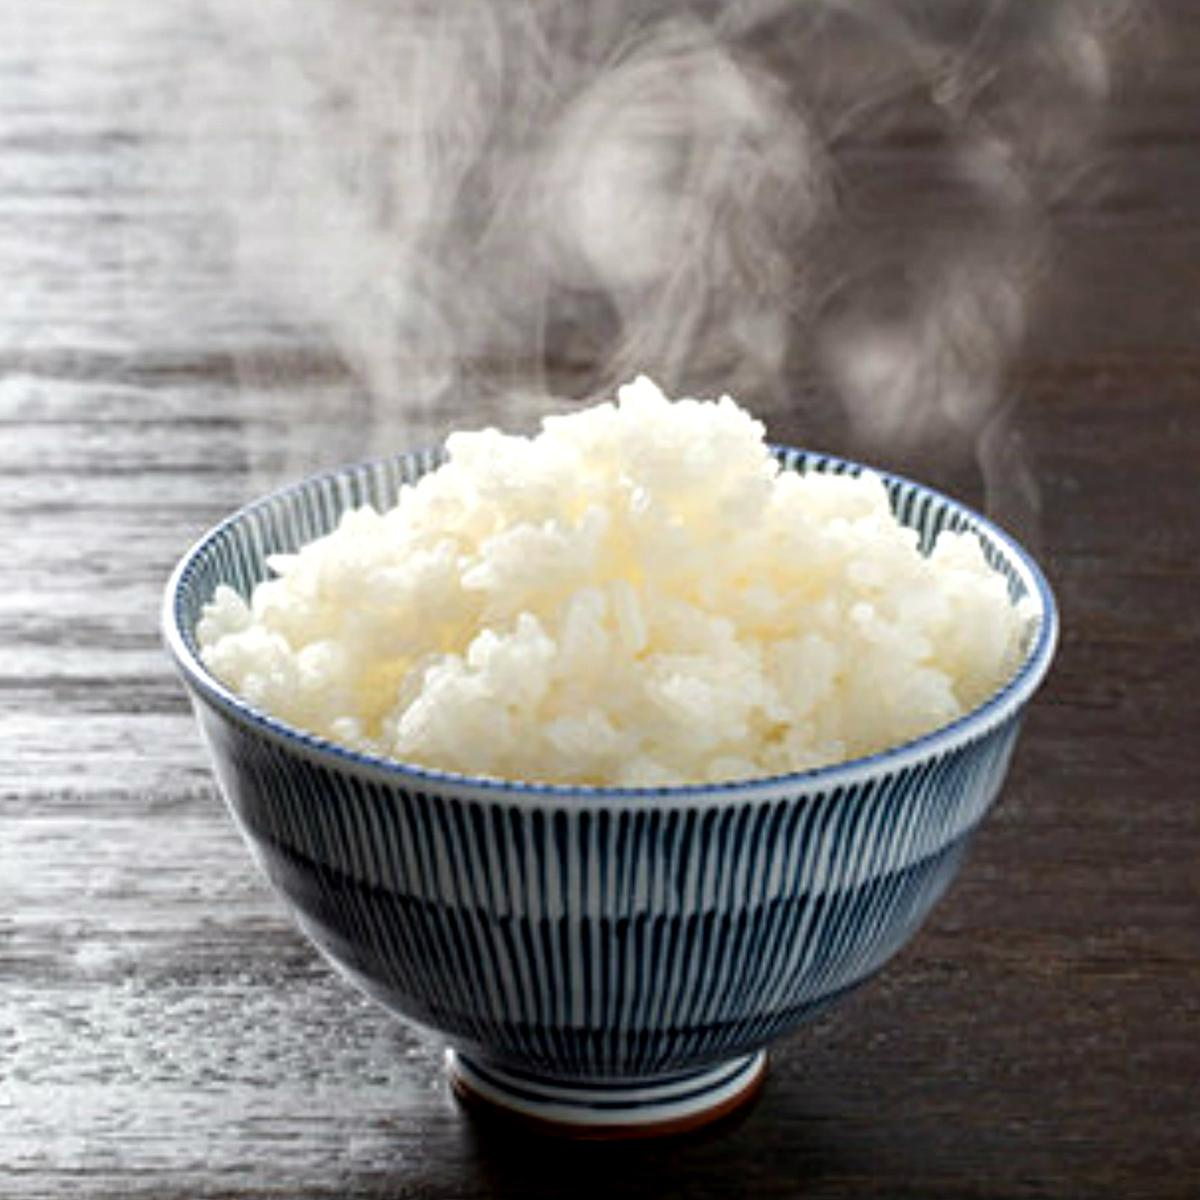Nasi Putih: (158, 338, 1058, 825)
